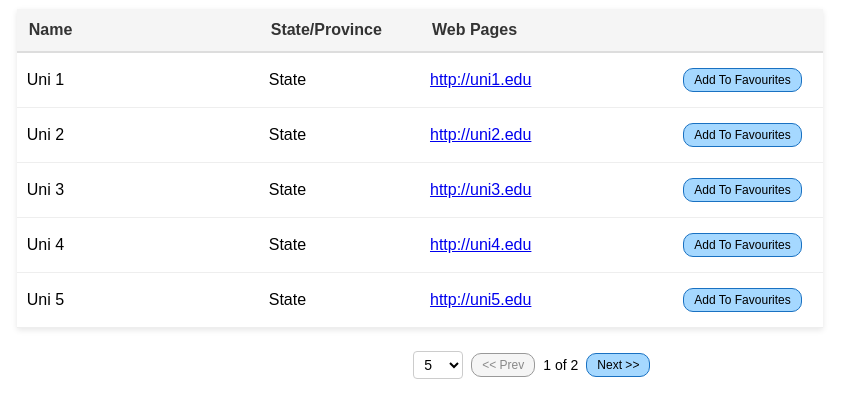
Test case: DataTable › pagination changes page
Check: the text "Uni 1" is shown, box [17,53,259,108]
Go to next page
Click the button "Next >>". click: [618, 365]
box: [586,353,650,377]
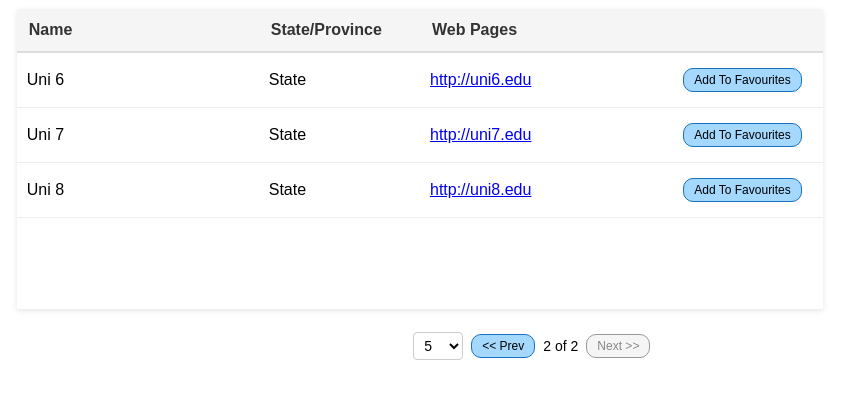
Check: the text "Uni 6" is shown, box [17,53,259,108]
